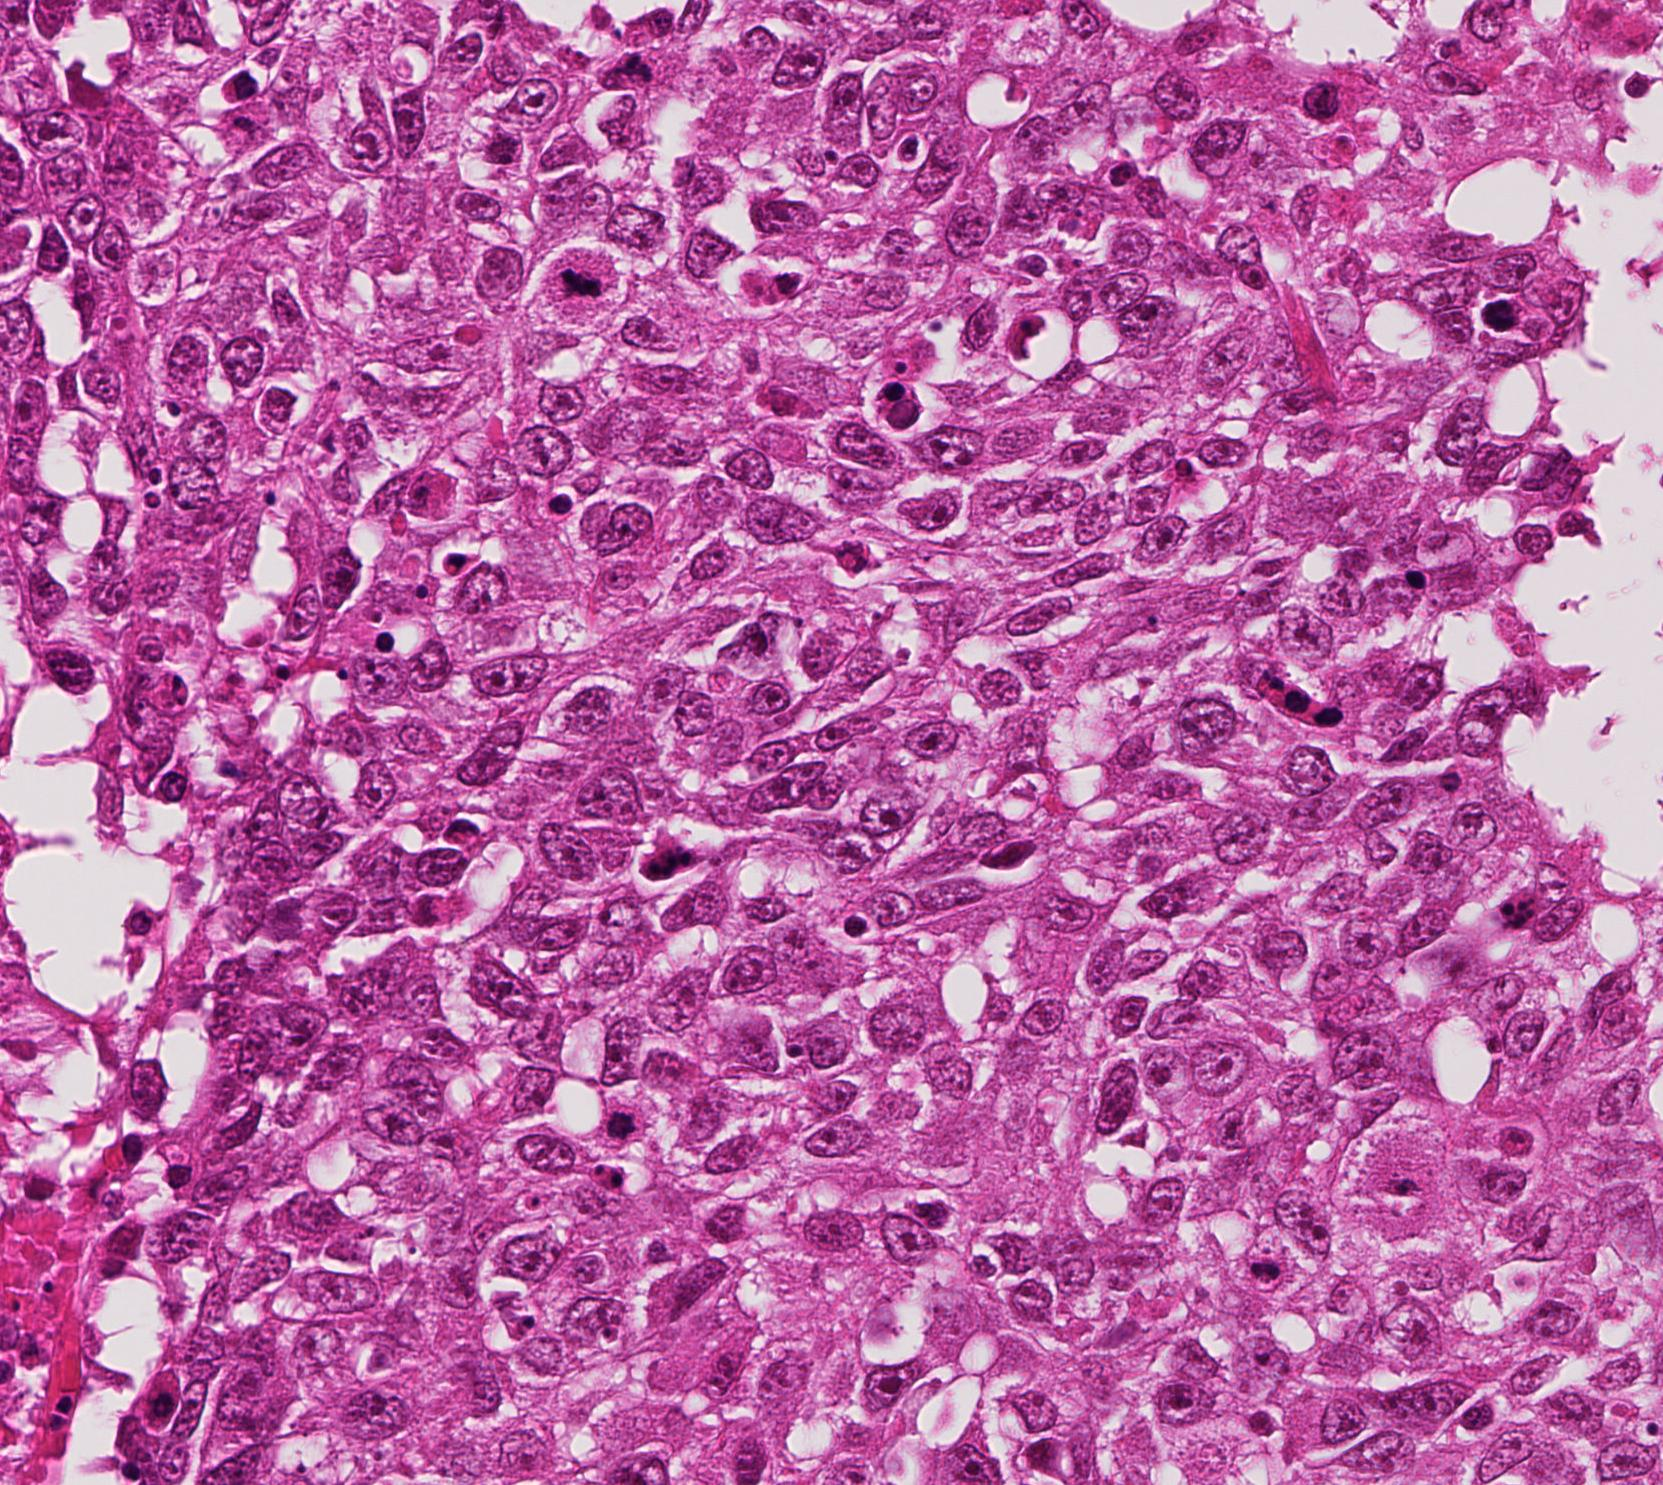mitosis: (543, 251, 604, 311), (1459, 280, 1520, 340)
